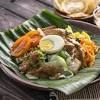soto: (2, 14, 99, 85)
